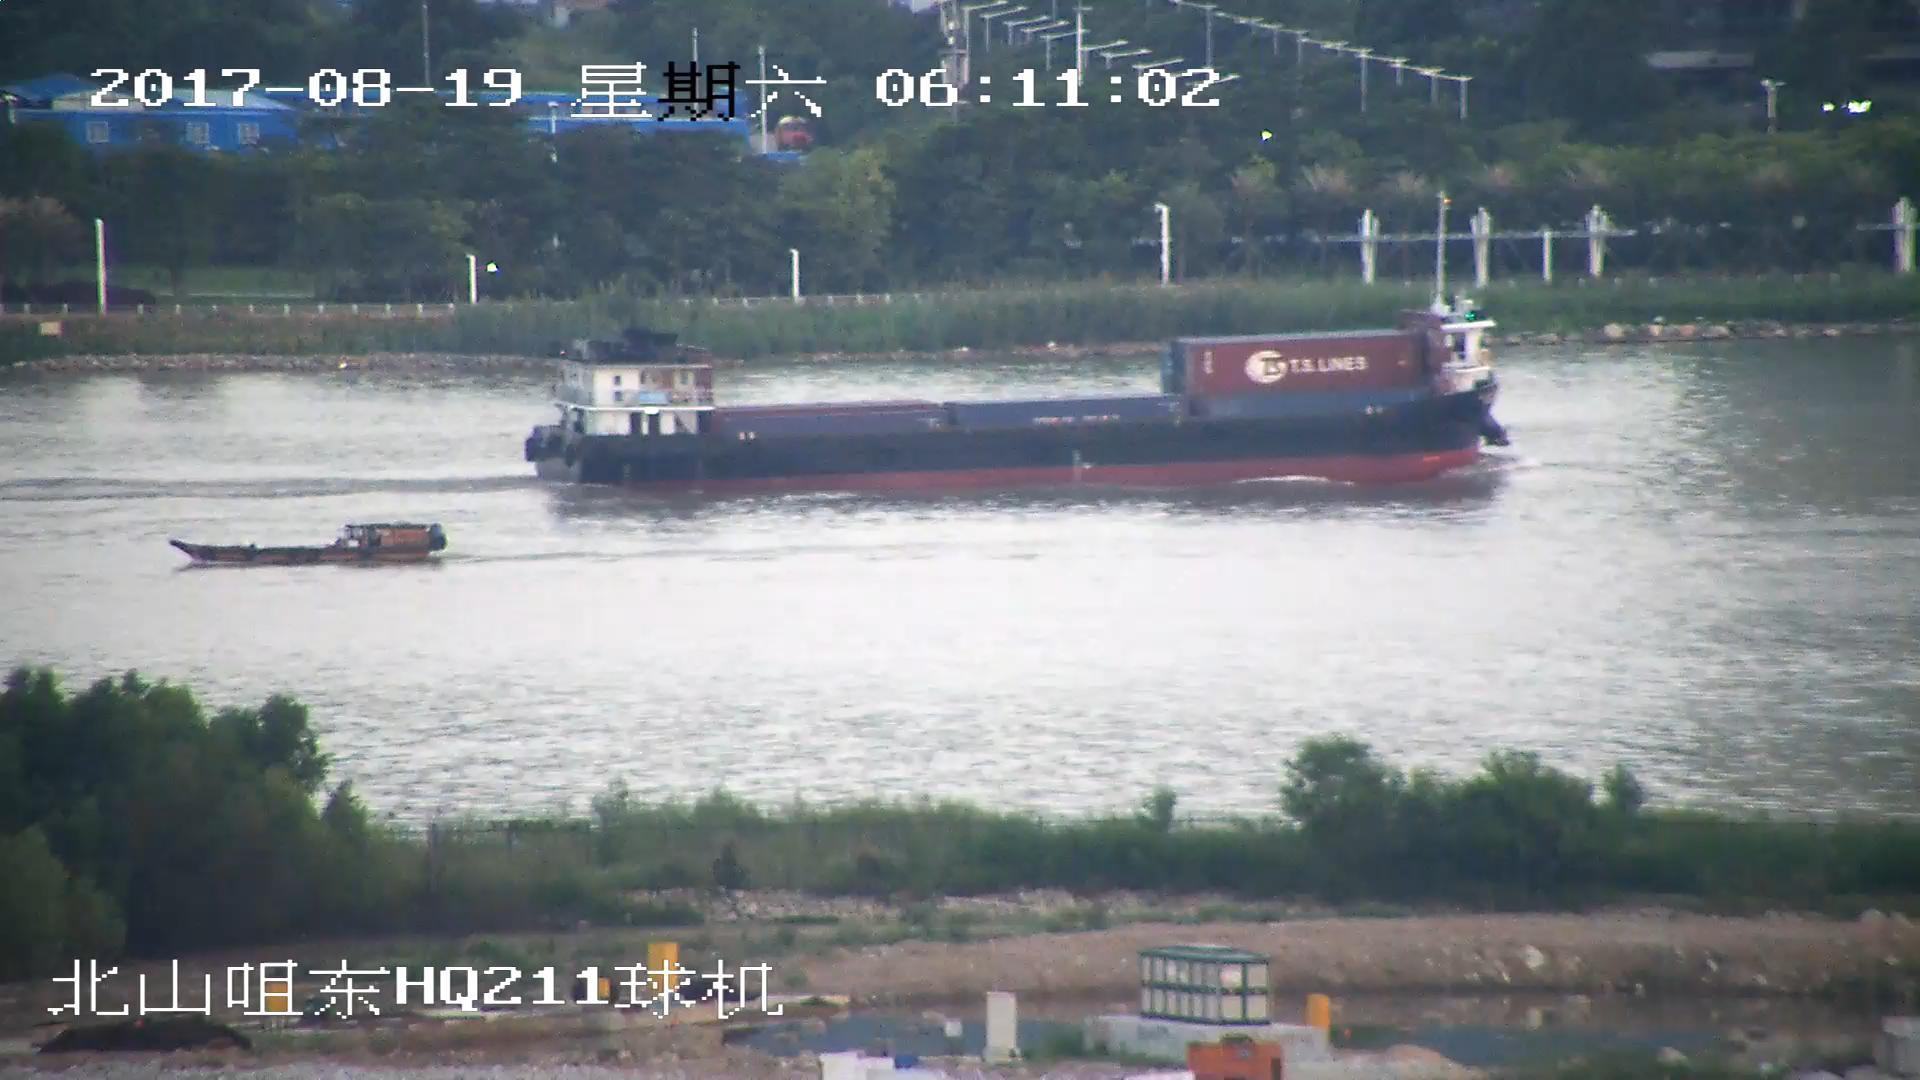Ship: (522, 291, 1519, 491), (174, 516, 451, 568)
